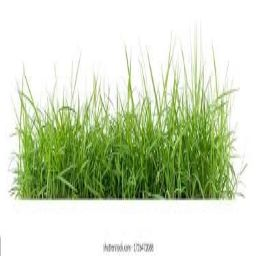grass: (10, 30, 242, 201)
